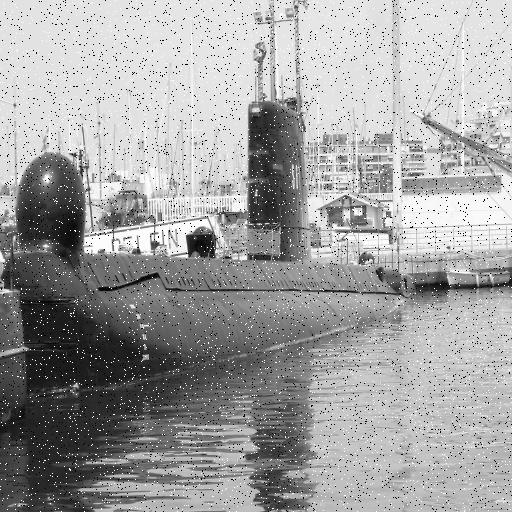submarine: (10, 1, 432, 414)
